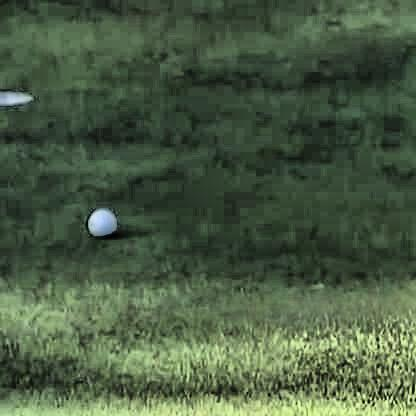golfball: (82, 207, 115, 238)
